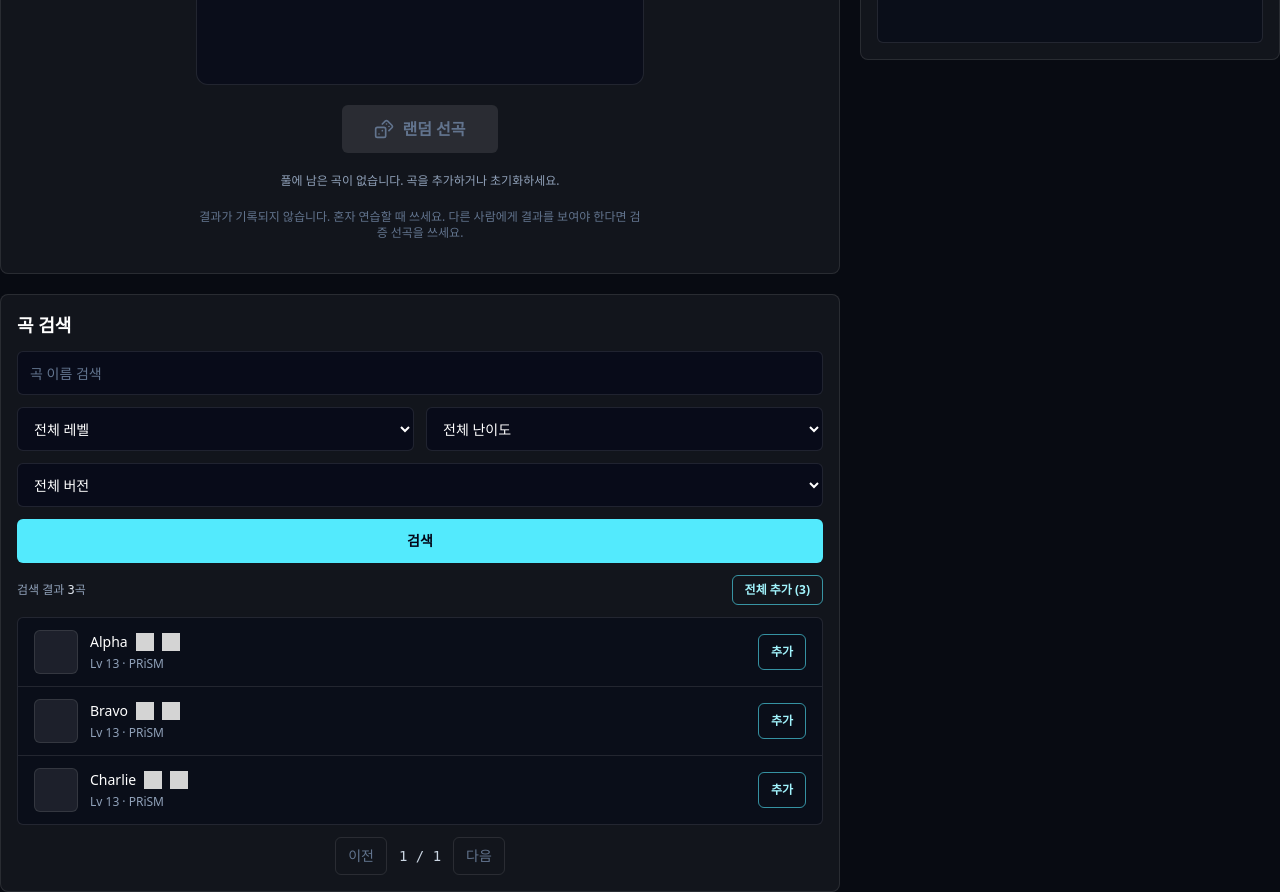
Test: RandomPicker › adds a searched chart to the pool and marks it as added
This screenshot has width=1280, height=892.
(page scrolled)
Click the button with aria-label "Alpha DX MASTER 풀에 추가". click: (782,652)
box: 758,634 -> 806,670
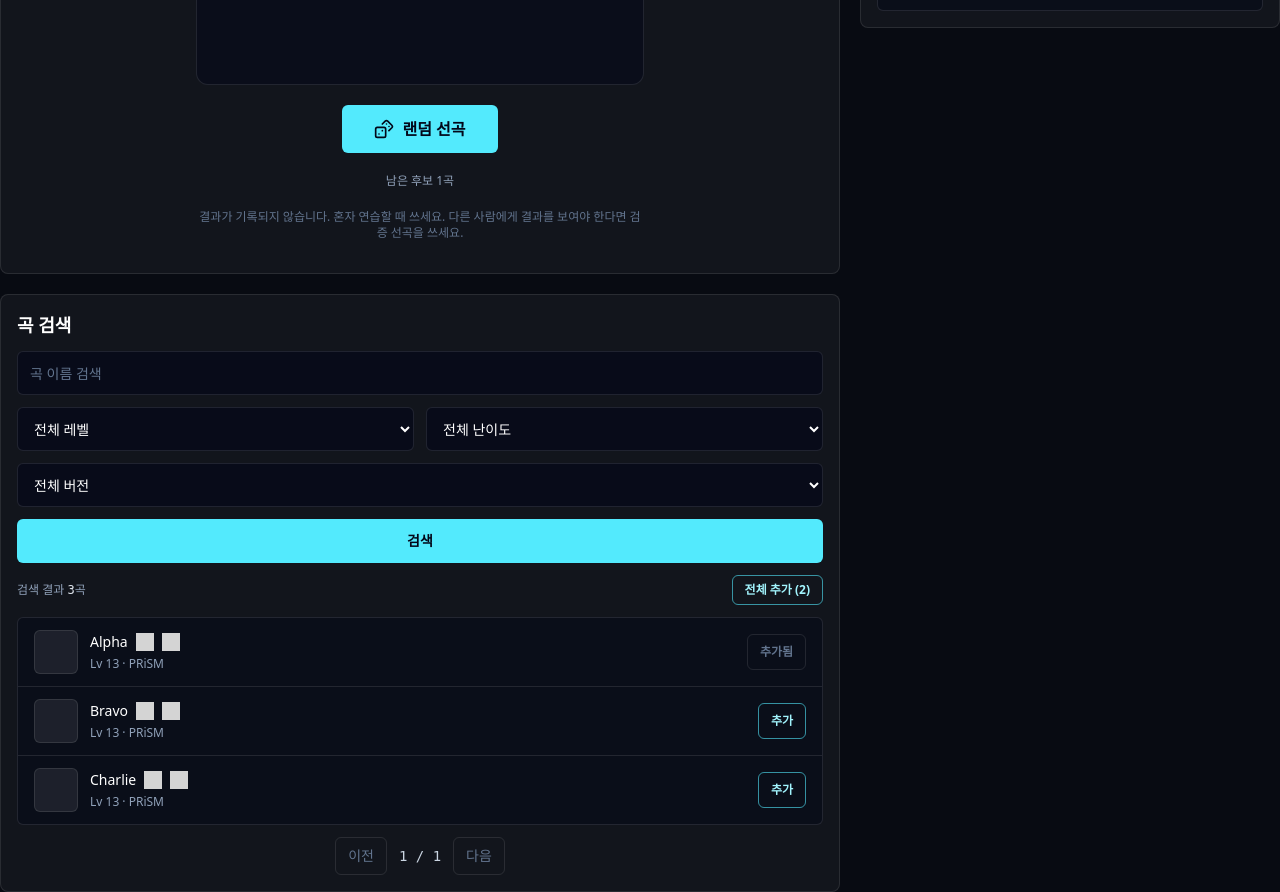
expect the button with aria-label "Alpha DX MASTER 추가됨" is disabled: met, box 747,634 -> 806,670
